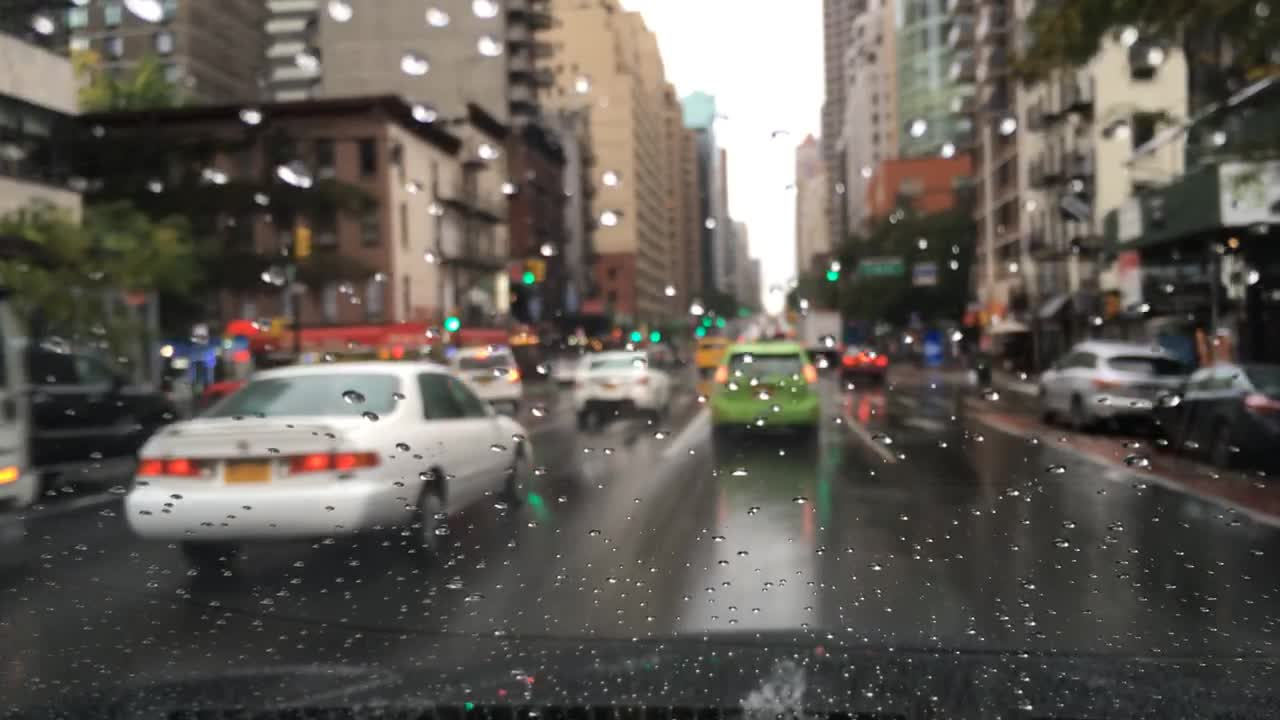car: (125, 354, 534, 564), (1, 341, 173, 512), (1035, 341, 1187, 434), (1149, 363, 1278, 464), (712, 341, 821, 440), (573, 353, 673, 428), (448, 344, 523, 407), (547, 347, 589, 386), (692, 338, 728, 378), (841, 344, 887, 375), (739, 313, 775, 338), (640, 341, 673, 368), (766, 314, 796, 338), (712, 320, 742, 338)
person: (1208, 327, 1235, 365)
traffic light: (294, 229, 311, 260), (439, 311, 462, 332), (520, 262, 534, 286), (266, 319, 281, 339), (625, 329, 643, 344), (823, 265, 839, 281), (531, 260, 543, 281), (784, 308, 799, 324), (691, 326, 706, 338), (979, 311, 990, 327), (713, 314, 725, 327), (736, 308, 749, 320), (649, 329, 661, 341), (701, 314, 712, 326)
traffic sign: (857, 259, 901, 277), (911, 262, 937, 284)
truck: (802, 311, 842, 366)
